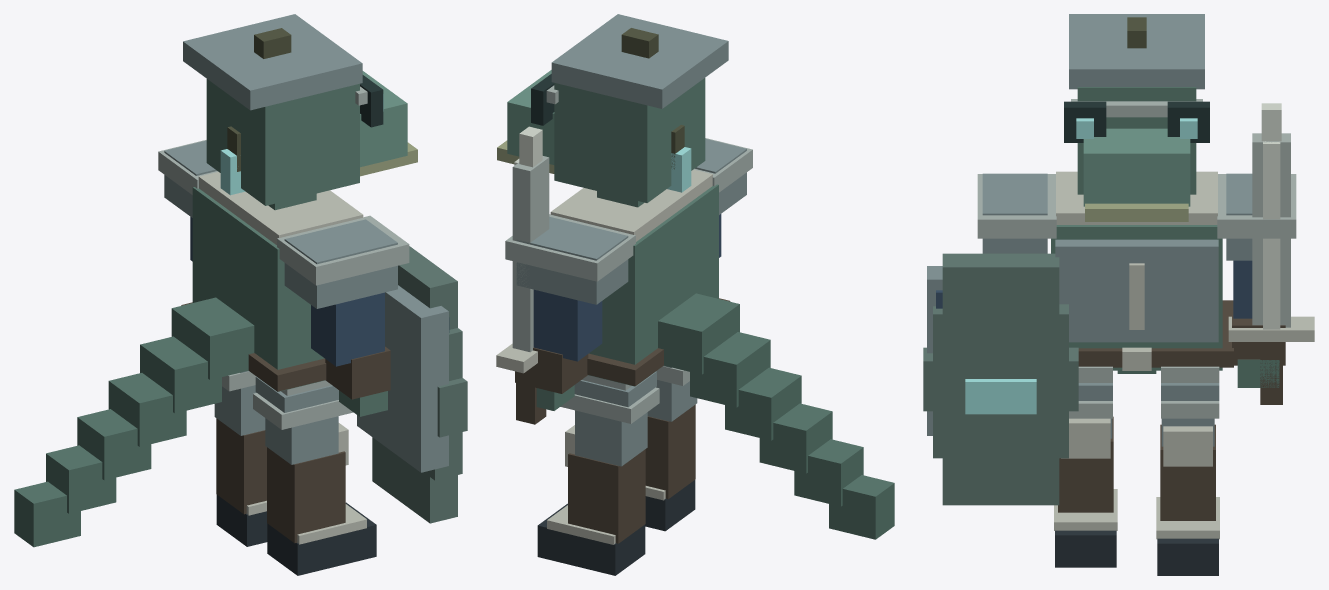
The model's file is scale-shield.glb.
3 views of the same model, side by side, from view 1: azimuth 30°, elevation 25°; view 2: azimuth 150°, elevation 25°; view 3: azimuth 270°, elevation 25° (orthographic). The views are drawn at different scales.
Parts seen in each view (by area): view 1: Tail, Boots, Head, Torso, Shield, Helmet, CityShield, Shoulders, Collar, Pauldrons, Sleeves, Legs (+9 smaller); view 2: Tail, Boots, Head, Torso, Helmet, Shoulders, SwordBlade, Legs, Collar, Sleeves, Pauldrons, Tassets (+10 smaller); view 3: CityShield, Breastplate, Boots, Helmet, Snout, Shoulders, Tassets, Pauldrons, Torso, SwordBlade, Kneeguards, Head (+19 smaller).
Part boxes in pixels (x1,y1,x2,y2): Tail: (14, 297, 254, 547); Boots: (216, 418, 376, 575); Head: (206, 79, 359, 205); Torso: (192, 187, 324, 391); Shield: (357, 285, 448, 472); Helmet: (183, 14, 367, 110); CityShield: (372, 246, 467, 523); Shoulders: (164, 140, 397, 308); Collar: (198, 172, 363, 244); Pauldrons: (158, 140, 409, 285); Sleeves: (190, 217, 384, 366); Legs: (214, 370, 338, 464); Tail: (658, 293, 894, 539); Boots: (537, 404, 695, 575); Head: (554, 78, 705, 202); Torso: (588, 184, 718, 386); Helmet: (546, 14, 728, 108); Shoulders: (516, 138, 746, 304); SwordBlade: (512, 156, 549, 352); Legs: (575, 365, 697, 466); Collar: (550, 169, 712, 241); Sleeves: (533, 214, 721, 361); Pauldrons: (505, 138, 752, 281); Tassets: (560, 366, 689, 423); CityShield: (923, 253, 1078, 505); Breastplate: (1055, 239, 1218, 342); Boots: (1055, 416, 1218, 575); Helmet: (1069, 14, 1204, 117); Snout: (1083, 128, 1190, 206); Shoulders: (982, 173, 1252, 260); Tassets: (1069, 366, 1219, 418); Pauldrons: (977, 174, 1296, 238); Torso: (1051, 225, 1222, 370); SwordBlade: (1252, 133, 1290, 327); Kneeguards: (1061, 418, 1212, 466); Head: (1077, 87, 1196, 194).
Size of the model in its own units: 6.62 by 8.87 by 6.04.
